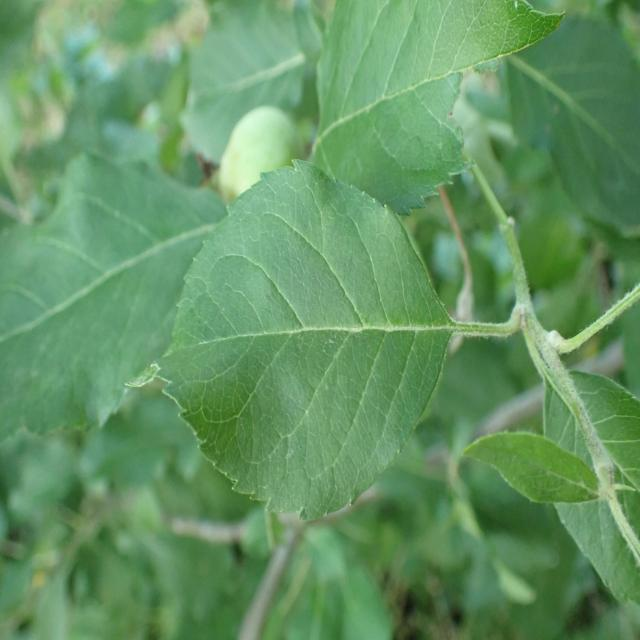healthy: (122, 160, 454, 523), (0, 149, 227, 444), (309, 0, 567, 216), (507, 12, 640, 239), (544, 369, 640, 607)
